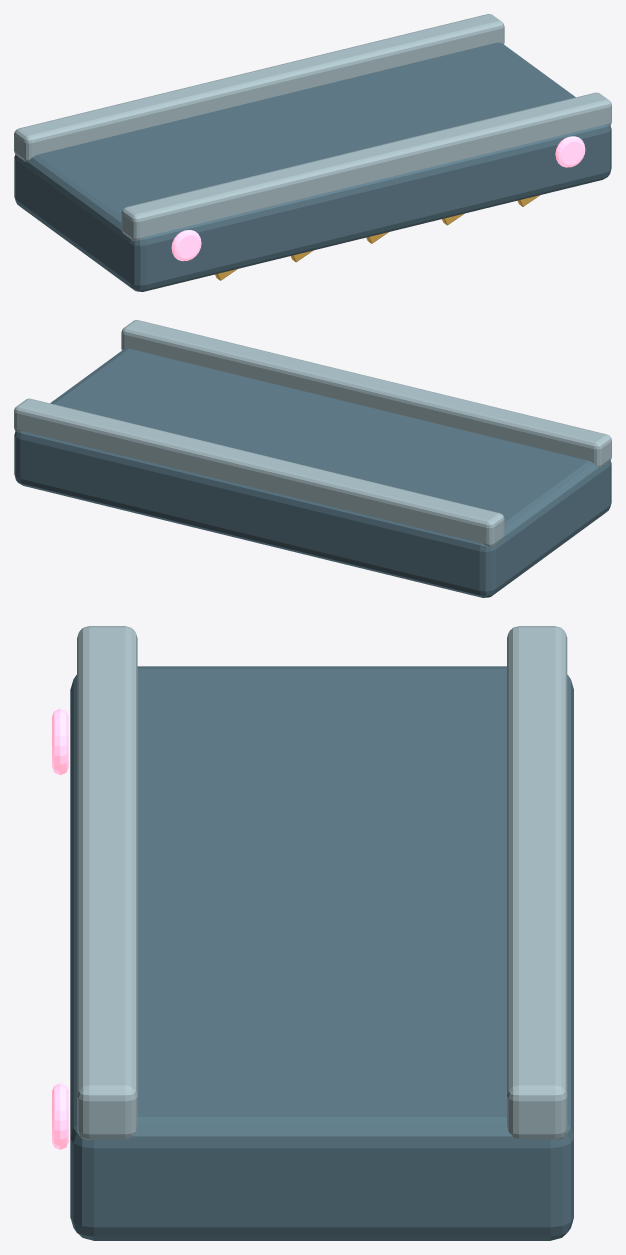
File: SM_RetractBase.fbx
3 renders of one model, top to bottom at view 1: azimuth 30°, elevation 25°; view 2: azimuth 150°, elevation 25°; view 3: azimuth 270°, elevation 25°, orthographic. The views are drawn at different scales.
Visible parts, largest first — view 1: SM_RetractBase; view 2: SM_RetractBase; view 3: SM_RetractBase.
Part boxes in pixels (x1,y1,x2,y2): SM_RetractBase: (14, 14, 611, 291); SM_RetractBase: (14, 320, 611, 597); SM_RetractBase: (52, 626, 573, 1240).
Bounding box in the file's own units: 165 × 77.75 × 28.44.
